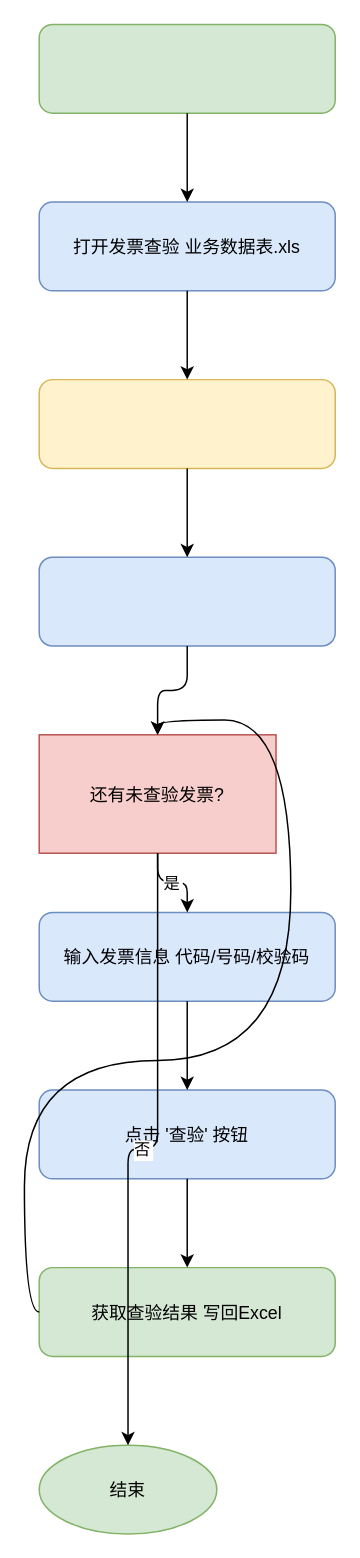
Some shapes in this 360 by 1558 pixel diagram are drawn without their labels. The shapes that lost their labels are listed below. From the top down, each one's centre as x and y in pixels, then its label:
point 186,68: 开始
point 186,423: 读取待查验 发票数据
point 186,601: 登录发票查验平台
